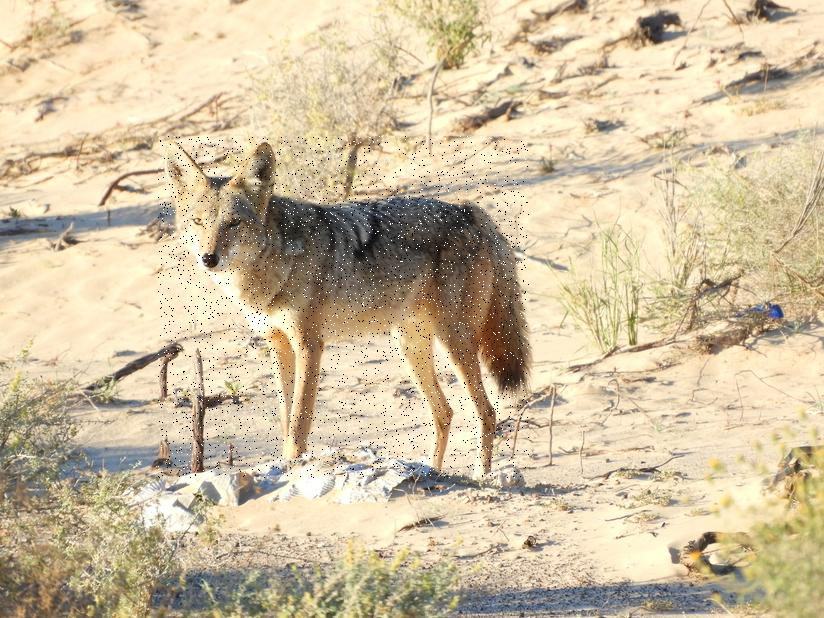Coyote: (158, 137, 529, 479)
